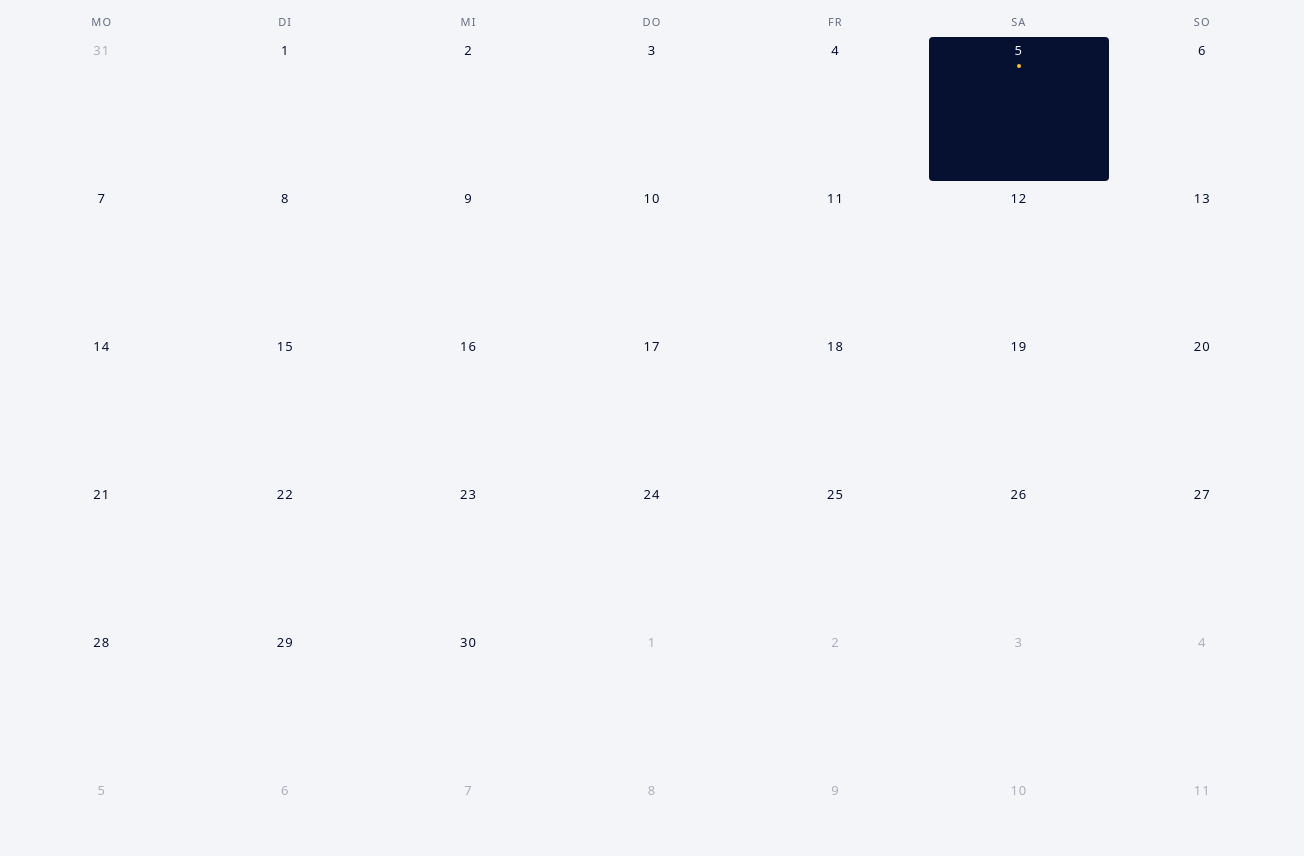
it: EventCalendarGrid › shows a quiet empty state for a selected day with no events
The width and height of the screenshot is (1304, 856).
Click the cell named "16. September 2026": (469, 346) top-left (460, 337), bottom-right (477, 355)
(page scrolled)
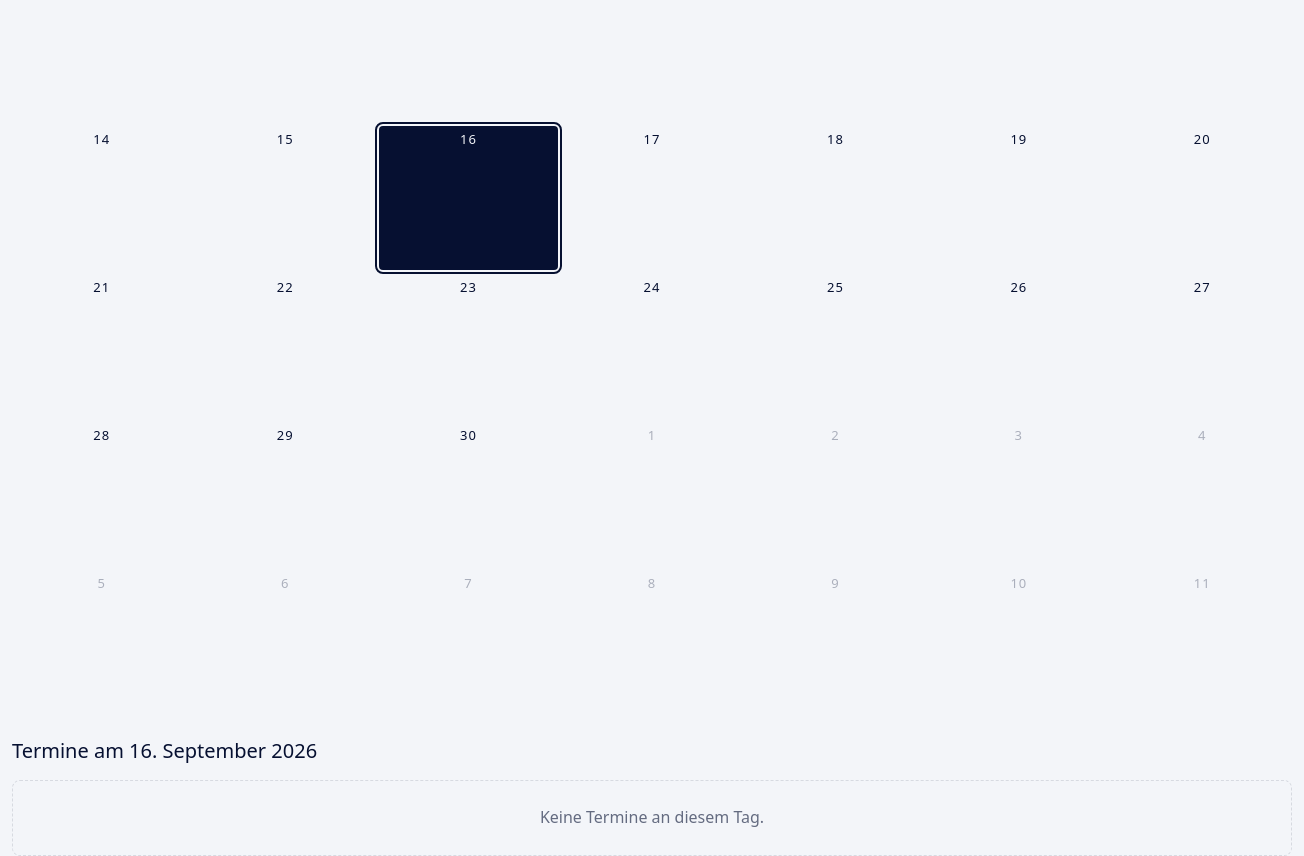
Expected: the text "Keine Termine an diesem Tag." is shown, top-left (12, 780), bottom-right (1292, 855)
Result: the heading "Termine am 16. September 2026" is shown at top-left (12, 737), bottom-right (317, 764)
